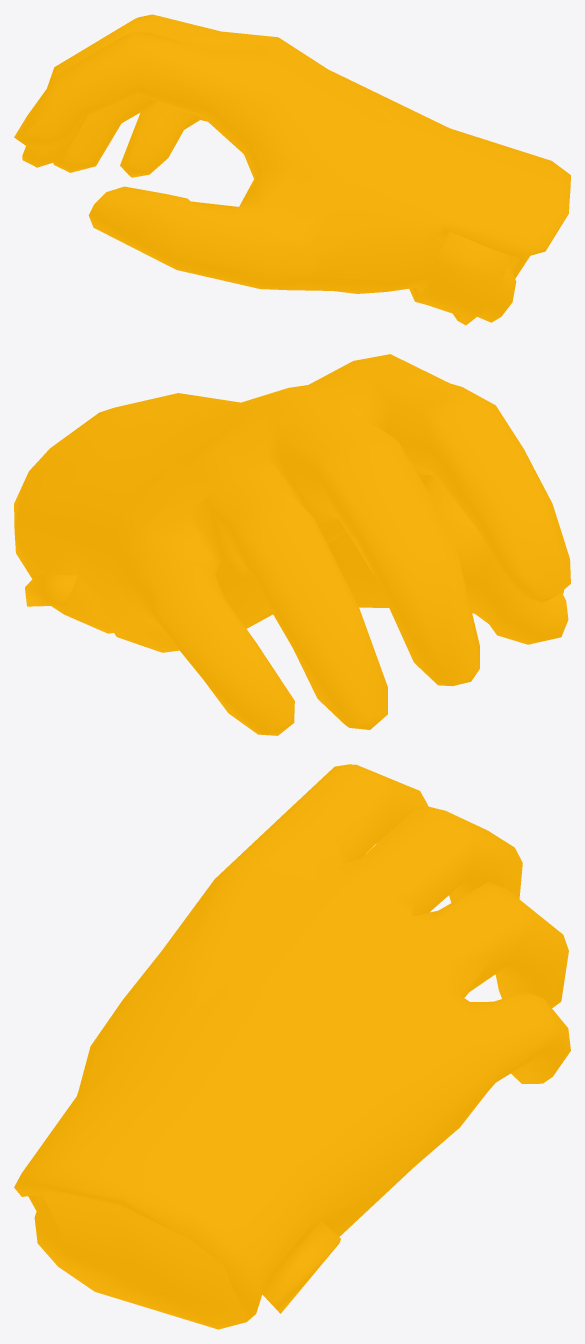
The model's file is holoHand.fbx.
3 renders of one model, top to bottom at view 1: azimuth 30°, elevation 25°; view 2: azimuth 150°, elevation 25°; view 3: azimuth 270°, elevation 25°, orthographic. The views are drawn at different scales.
Parts seen in each view (by area): view 1: vr_glove_right_slim; view 2: vr_glove_right_slim; view 3: vr_glove_right_slim.
Part boxes in pixels (x1,y1,x2,y2): vr_glove_right_slim: (14,14,570,325); vr_glove_right_slim: (14,354,570,735); vr_glove_right_slim: (14,764,570,1329).
Bounding box in the file's own units: 18.18 × 10.54 × 14.37.
